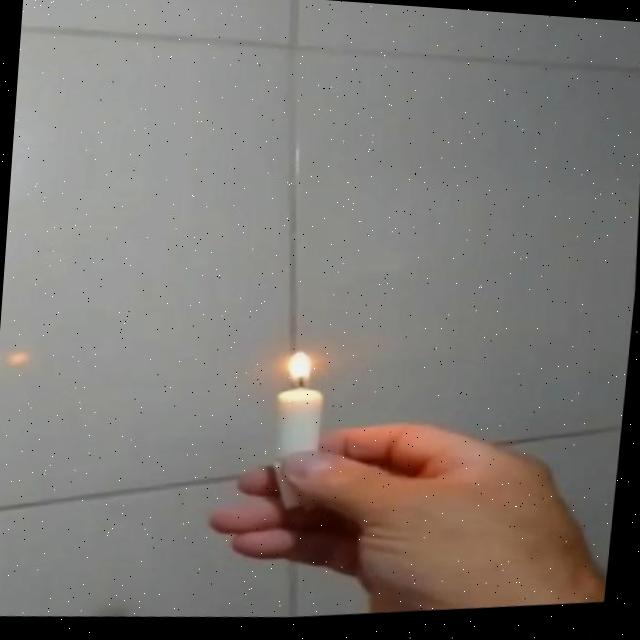fire: (275, 350, 325, 393)
